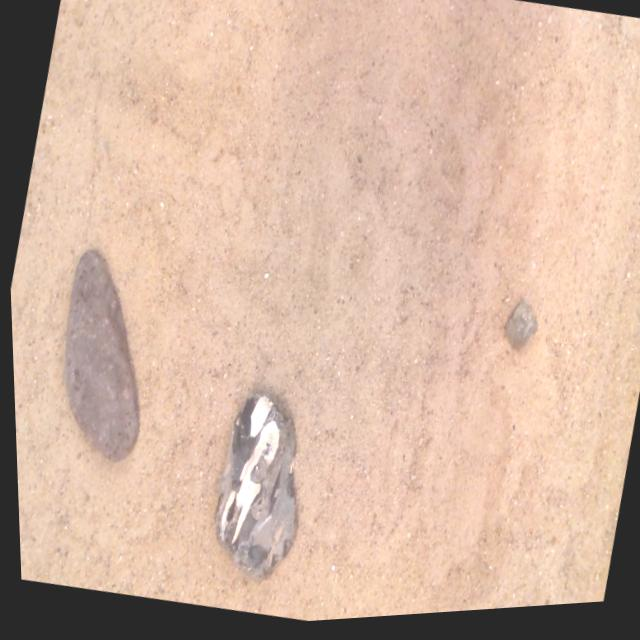rock: (62, 253, 136, 463), (210, 399, 292, 583), (501, 307, 534, 357)
